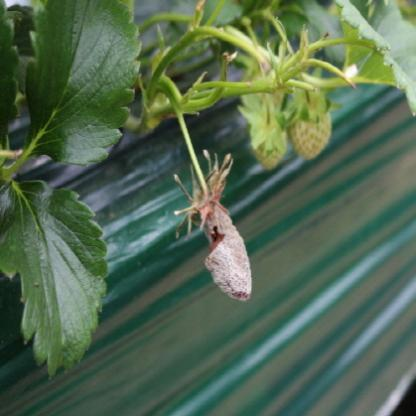Strawberry_Gray_Mold: (173, 149, 252, 302)
